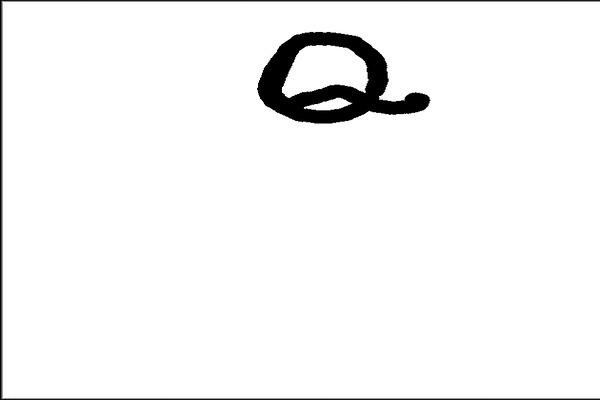Q: (247, 14, 454, 137)
